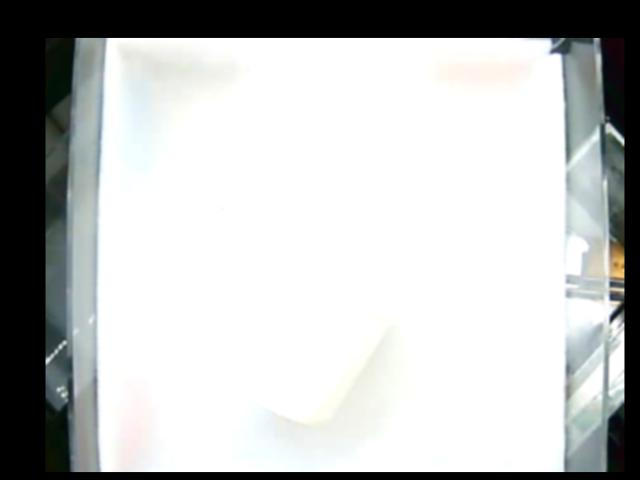Cup: (237, 254, 402, 424)
